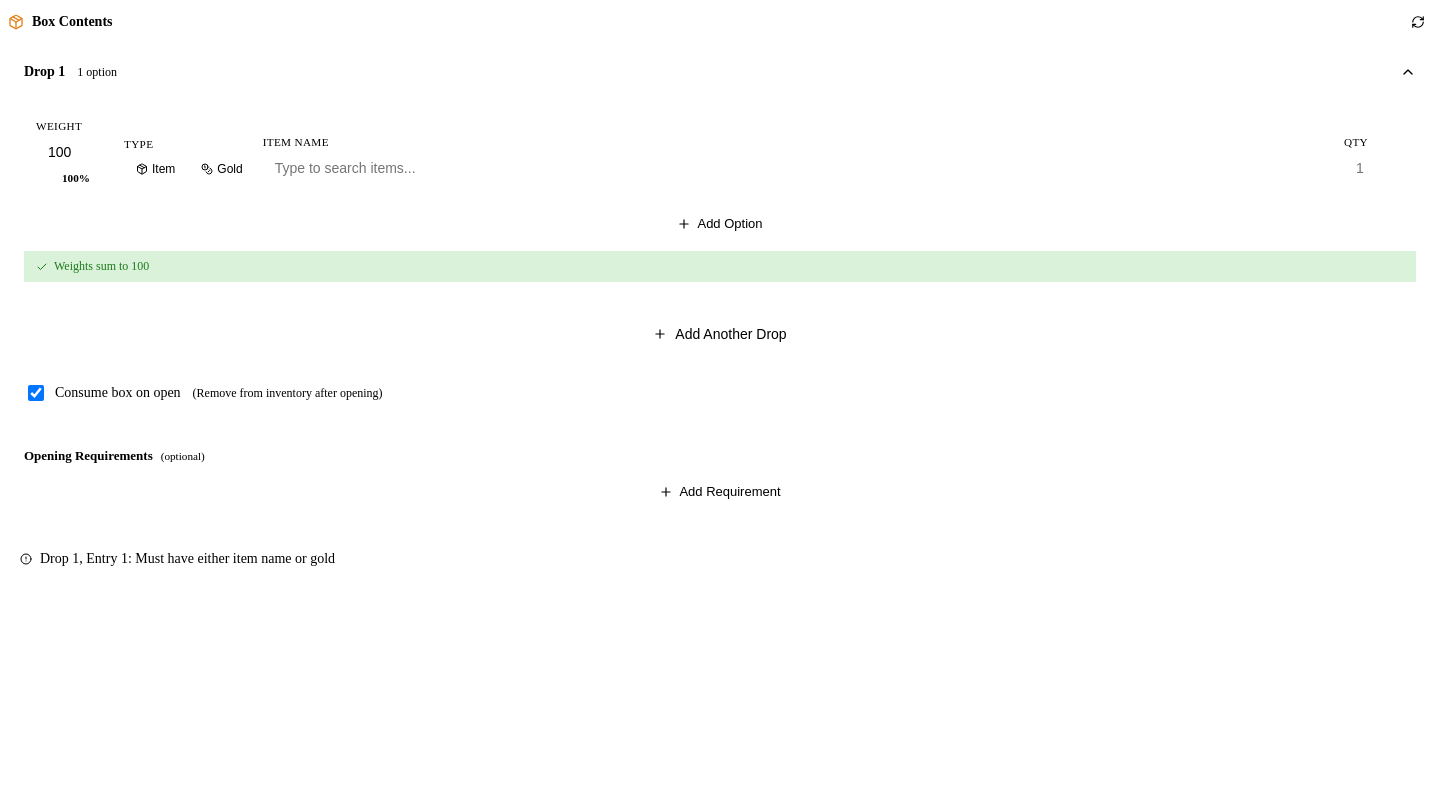
Scenario: BoxContentsBuilder Component › Drop Management › can add another drop
Click the button "Add Another Drop" at (720, 334), box [8,314,1432,354]
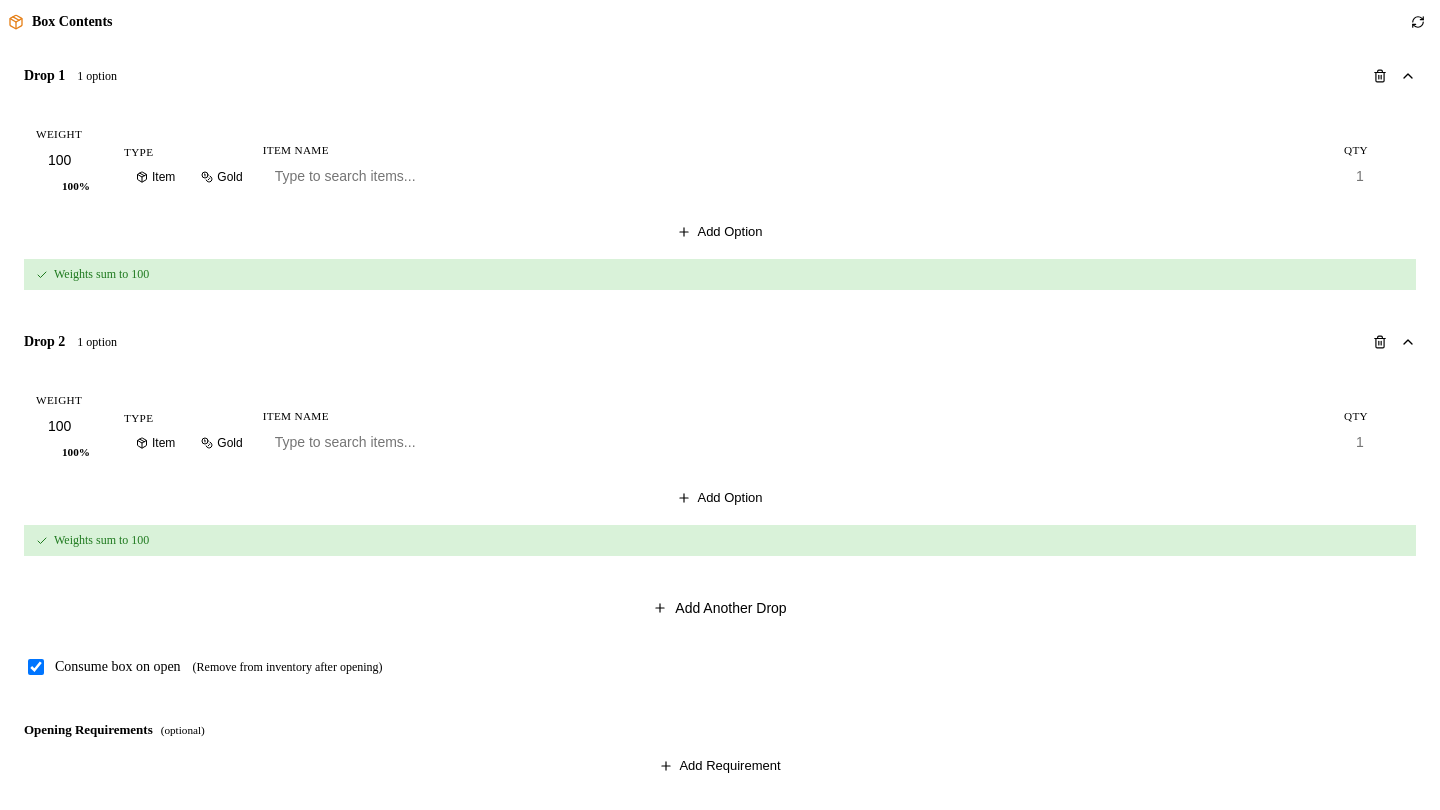
Check: the text "Drop 2" is shown, box [24,334,65,350]
